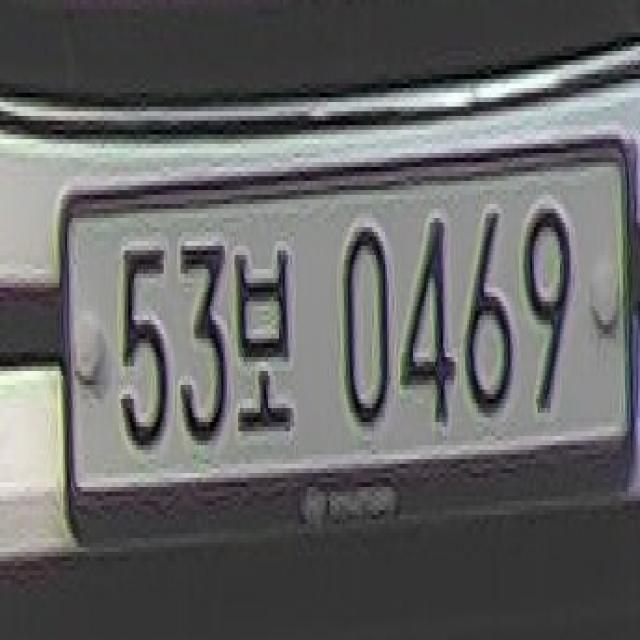0: (331, 204, 393, 459)
3: (173, 194, 234, 492)
4: (394, 190, 464, 455)
5: (119, 232, 173, 464)
6: (461, 158, 519, 468)
9: (517, 181, 581, 436)
bo: (229, 227, 299, 436)
license_plate: (58, 116, 638, 543)
